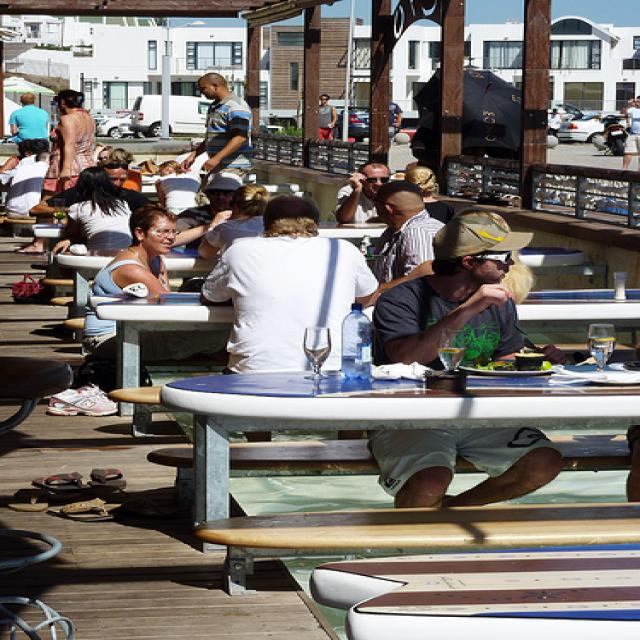motor: (589, 115, 631, 157)
